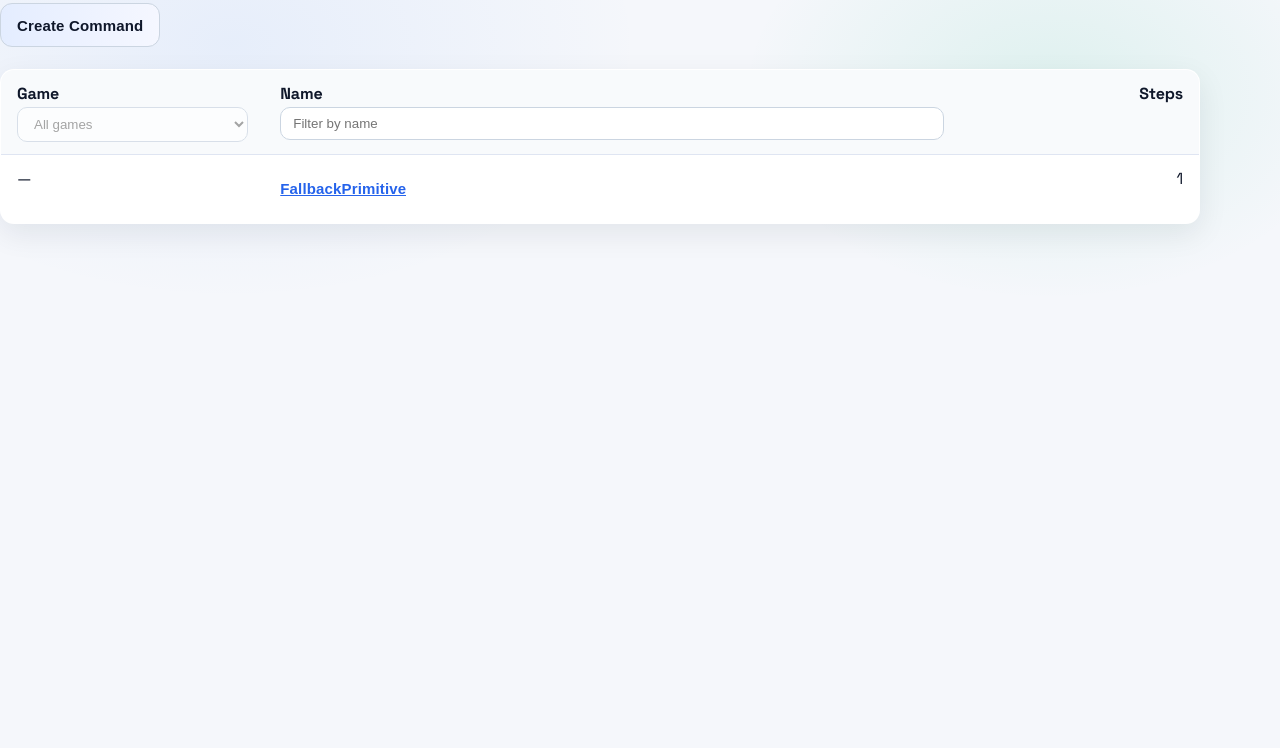
Test: CommandsPage detection persistence › uses command-level detection as fallback when primitive tap payload is missing
The width and height of the screenshot is (1280, 748).
Expected: the text "FallbackPrimitive" is shown, [280,180,406,198]
Click the button "FallbackPrimitive": (343, 189) [280,167,406,211]
(page scrolled)
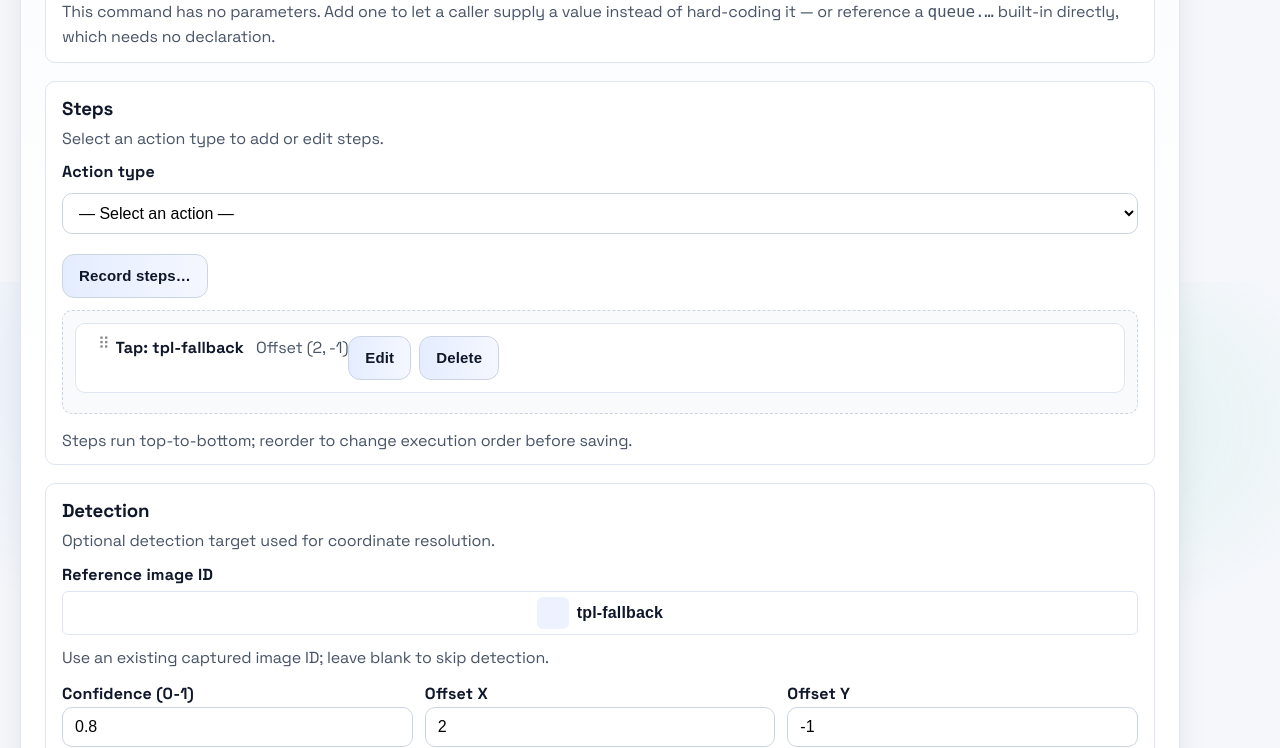
Now the text "Tap: tpl-fallback" is shown, box [116,336,244,361]
